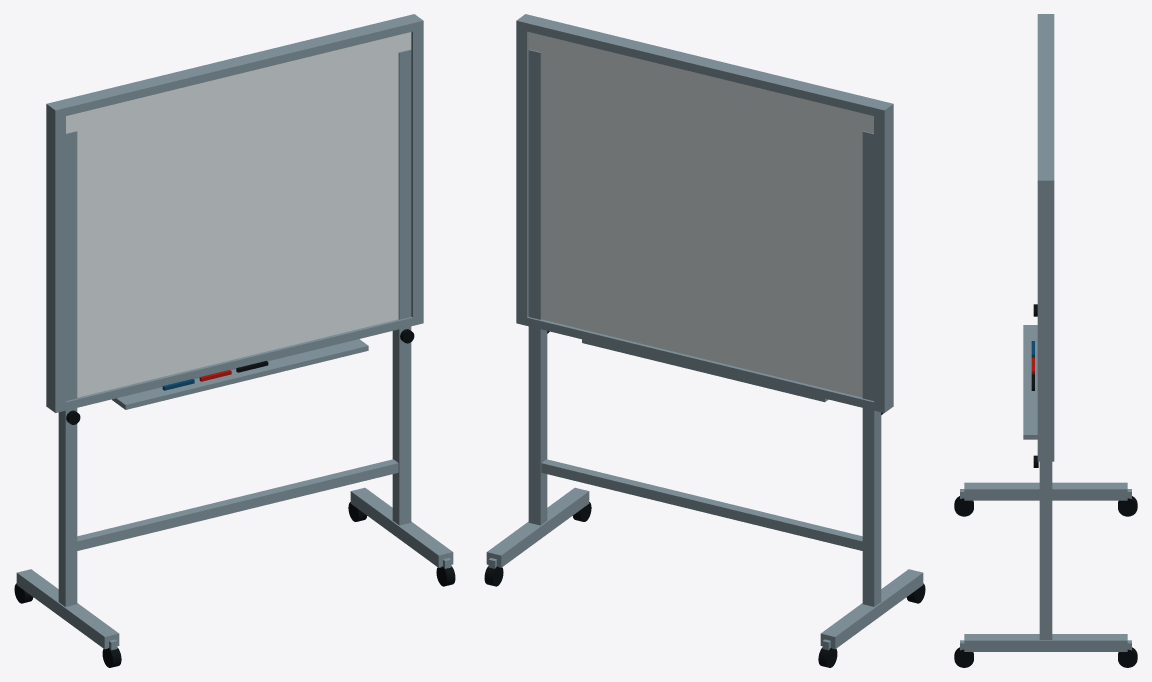
Rendered from whiteboard.dae.
The picture shows the model from 3 angles, left to right: view 1: azimuth 30°, elevation 25°; view 2: azimuth 150°, elevation 25°; view 3: azimuth 270°, elevation 25°; orthographic projection. The views are drawn at different scales.
Visible parts, largest first — view 1: writing_panel, stand_upright (×2), horizontal_frame (×2), side_frame (×2), stand_crossbar, stand_foot (×2), pen_tray; view 2: writing_panel, stand_upright (×2), horizontal_frame (×2), side_frame (×2), stand_crossbar, stand_foot (×2), pen_tray; view 3: stand_foot (×2), side_frame, horizontal_frame, stand_upright, pen_tray, caster (×4).
Boxes of the visible parts, x1,y1,x2,y2 form: writing_panel: [66, 32, 411, 397]; stand_upright (×2): [58, 49, 411, 606]; horizontal_frame (×2): [46, 16, 423, 412]; side_frame (×2): [46, 14, 423, 412]; stand_crossbar: [77, 459, 398, 550]; stand_foot (×2): [16, 487, 453, 649]; pen_tray: [112, 339, 368, 409]; writing_panel: [528, 32, 873, 397]; stand_upright (×2): [528, 49, 881, 606]; horizontal_frame (×2): [516, 16, 893, 412]; side_frame (×2): [516, 14, 893, 412]; stand_crossbar: [541, 459, 862, 550]; stand_foot (×2): [486, 487, 923, 649]; pen_tray: [582, 339, 828, 402]; stand_foot (×2): [964, 482, 1127, 651]; side_frame: [1037, 176, 1054, 461]; horizontal_frame: [1037, 18, 1054, 187]; stand_upright: [1039, 461, 1052, 639]; pen_tray: [1023, 325, 1037, 439]; caster (×4): [954, 496, 1137, 667].
Size of the model in its own units: 1400 by 650 by 1930.
